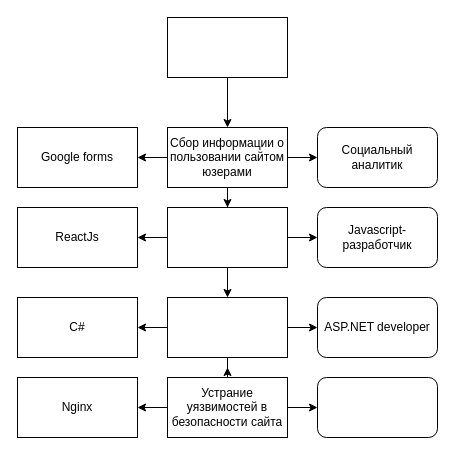
The diagram is 455 pixels wide and 455 high, and some of its shapes have lost their labels. Here are the shapes that lost their labels. From the top down, the centre of each, then its label:
the point at 227,47: Оптимизация работы сайта bk.ru
the point at 227,237: Визуальное оформление сайта
the point at 227,327: Обеспечение работоспособности сайта
the point at 377,407: специалист по информационной безопасности
